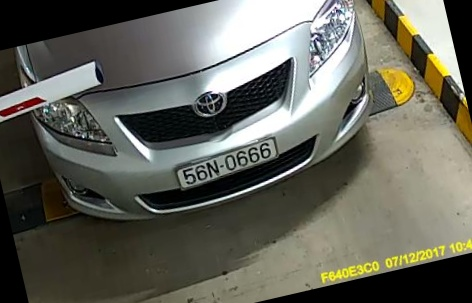plate: (164, 132, 295, 193)
